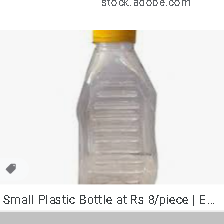Bottle: (79, 30, 158, 185)
